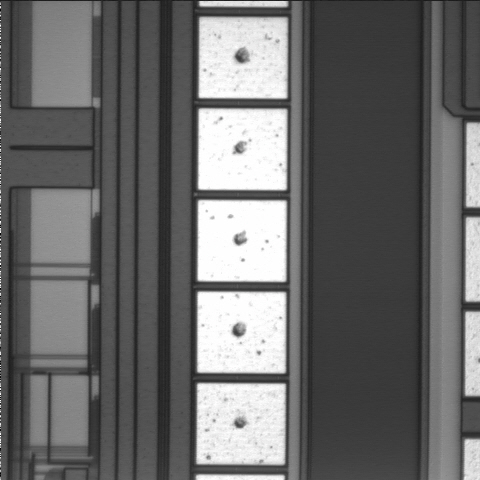pad: (197, 200, 287, 282), (196, 383, 286, 465), (199, 17, 288, 99), (198, 108, 287, 190), (197, 292, 286, 373)
